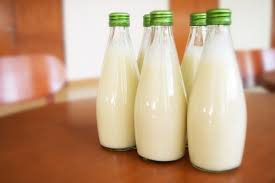milk: (193, 7, 254, 169), (132, 3, 185, 166), (94, 0, 138, 156)
